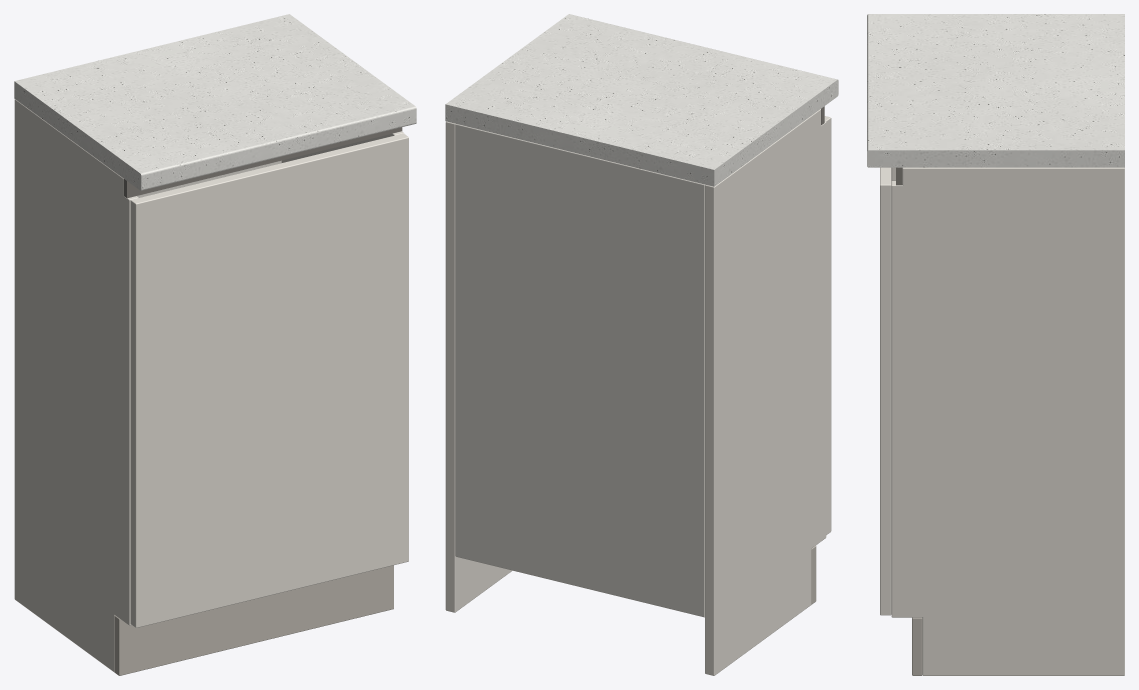
File: counter_filler.glb
The picture shows the model from 3 angles, left to right: view 1: azimuth 30°, elevation 25°; view 2: azimuth 150°, elevation 25°; view 3: azimuth 270°, elevation 25°; orthographic projection. The views are drawn at different scales.
Parts seen in each view (by area): view 1: counter_filler_fronts, counter_filler_carcass, counter_filler_countertop, counter_filler_gola; view 2: counter_filler_carcass, counter_filler_countertop, counter_filler_fronts; view 3: counter_filler_carcass, counter_filler_countertop, counter_filler_fronts.
Boxes of the visible parts, box(x1,y1,x2,y2) form: counter_filler_fronts: box(130, 133, 408, 627); counter_filler_carcass: box(14, 99, 403, 675); counter_filler_countertop: box(14, 14, 416, 190); counter_filler_gola: box(124, 127, 402, 198); counter_filler_carcass: box(445, 109, 826, 675); counter_filler_countertop: box(445, 14, 838, 186); counter_filler_fronts: box(824, 116, 831, 534); counter_filler_carcass: box(891, 167, 1124, 675); counter_filler_countertop: box(867, 14, 1124, 167); counter_filler_fronts: box(880, 167, 891, 615).
Size of the model in its own units: 0.5 by 0.9 by 0.4.
5 materials, 1 textured.
